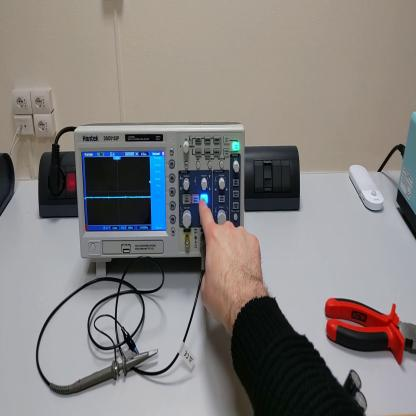hand: (197, 194, 266, 328)
oscilloscope: (75, 120, 246, 279)
oscilloscope probe tip: (68, 347, 163, 396)
pliers: (322, 296, 416, 367)
socket: (36, 151, 80, 219), (2, 152, 17, 218)
welder station: (396, 112, 416, 244)
